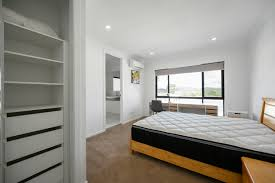bed-matress: (132, 110, 275, 176)
